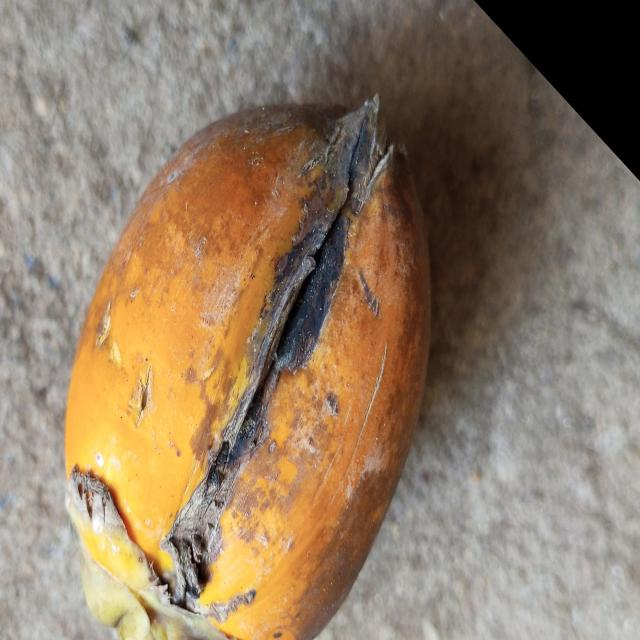damaged: (65, 95, 430, 640)
